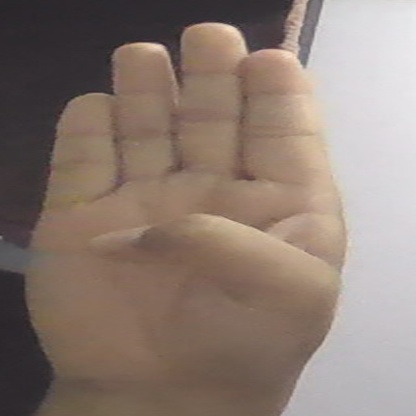B: (25, 24, 344, 391)
